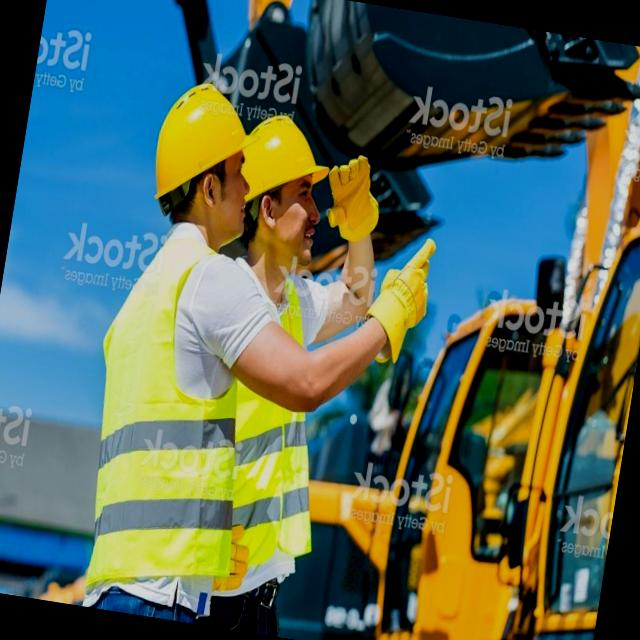helmet: (144, 75, 268, 216), (240, 104, 338, 217)
vest: (75, 222, 249, 594)
